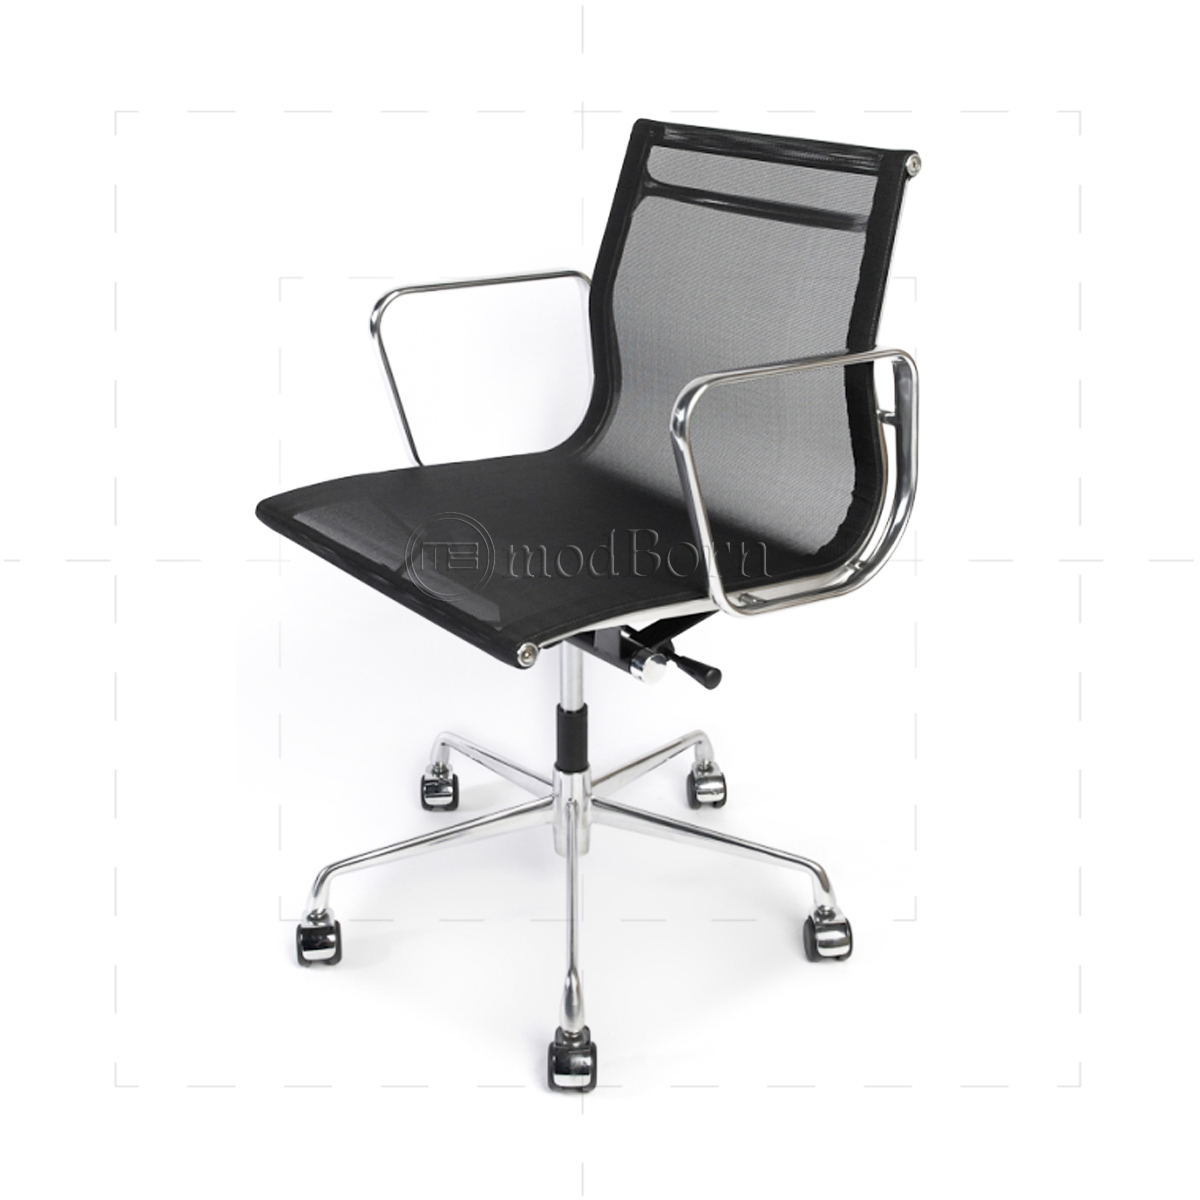chairs: (254, 116, 932, 1091)
